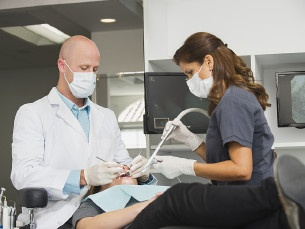Mask: (64, 58, 106, 100)
